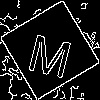M: (25, 25, 77, 79)
